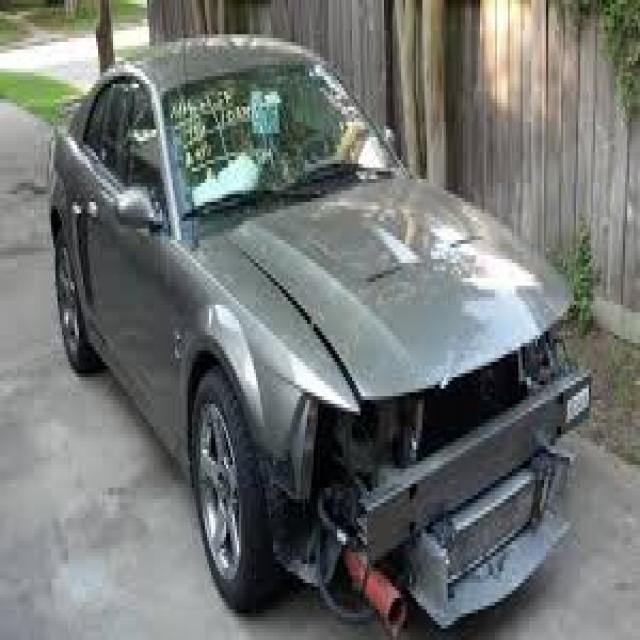minor: (220, 238, 580, 599)
